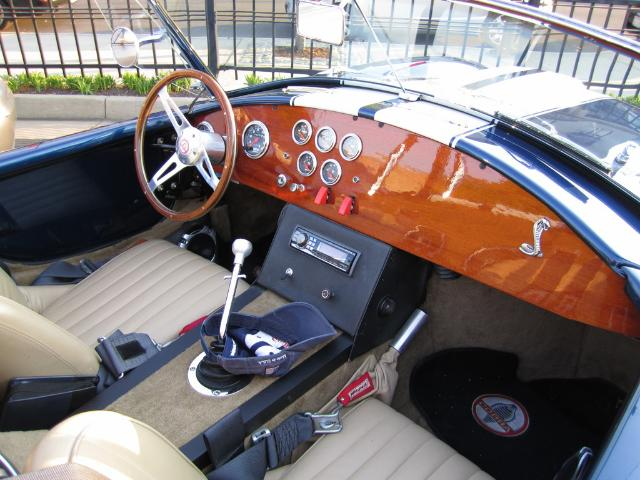Seatbelt: (203, 412, 341, 480), (28, 254, 106, 286)
